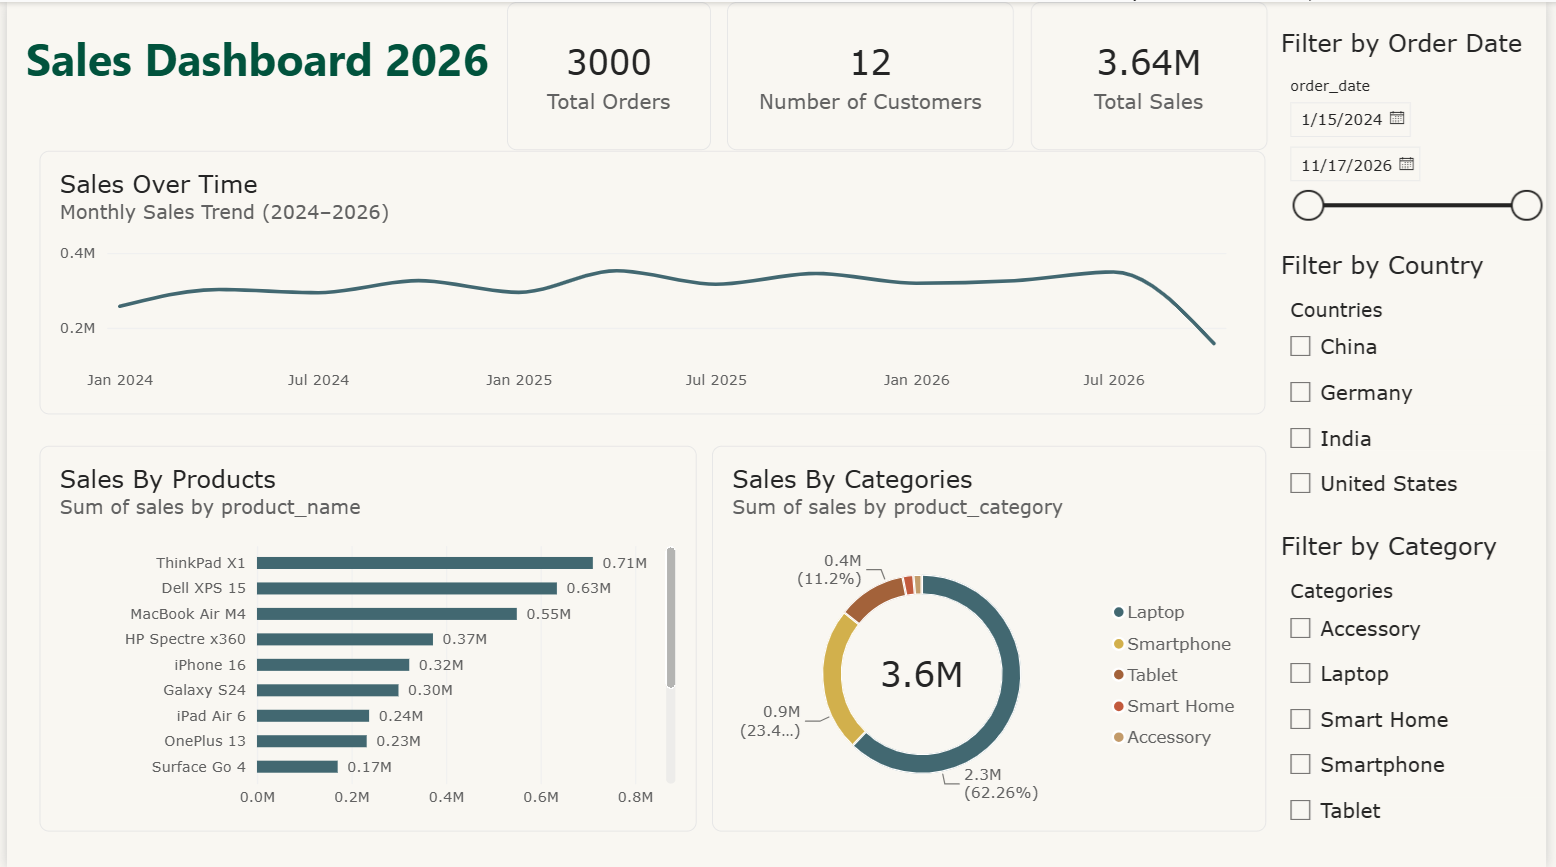

What the dashboard file says about the page in this screenshot:
{"tool":"powerbi","page":{"name":"Page 1","canvas":[1280,720],"ordinal":0},"visuals":[{"type":"barChart","title":"Sales By Products","fields":{"Category":["orders.product_name"],"Y":["Sum(orders.sales)"]},"box":[27.4,369.1,546.1,321.1],"z":0},{"type":"donutChart","title":"Sales By Categories","fields":{"Category":["orders.product_category"],"Y":["Sum(orders.sales)"]},"box":[585.9,369.1,461.1,321.1],"z":1000},{"type":"card","fields":{"Values":["CountNonNull(orders.order_id)"]},"box":[415.8,0,169.7,123.4],"z":2000},{"type":"card","fields":{"Values":["Count(orders.customer_id)"]},"box":[598.3,0,238.8,123.5],"z":3000},{"type":"card","fields":{"Values":["orders.Total Sales"]},"box":[850.8,0,196.5,122.8],"z":4000},{"type":"lineChart","title":"Sales Over Time","fields":{"Category":["orders.order_date.Variation.Date Hierarchy.Year","orders.order_date.Variation.Date Hierarchy.Quarter","orders.order_date.Variation.Date Hierarchy.Month","orders.order_date.Variation.Date Hierarchy.Day"],"Y":["Sum(orders.sales)"]},"box":[27.4,123.5,1019.6,219.6],"z":5000},{"type":"slicer","title":"Filter by Country","fields":{"Values":["customers.country"]},"box":[1059.4,205.8,220.9,216.8],"z":6000},{"type":"slicer","title":"Filter by Category","fields":{"Values":["orders.product_category"]},"box":[1059.4,439.1,220.9,281.3],"z":7000},{"type":"slicer","title":"Filter by Order Date","fields":{"Values":["orders.order_date"]},"box":[1059.4,22,220.9,174.3],"z":8000},{"type":"textbox","box":[15.1,22,400.7,70],"z":9000}]}

Visuals, with their boxes in screenshot pixels (x1, y1, x2, y2), scaled from the page's 1280x720 canvas onto the 1556x867 screenshot:
"Sales By Products" barChart: 33/444/697/831
"Sales By Categories" donutChart: 712/444/1273/831
card - CountNonNull(orders.order_id): 505/0/712/149
card - Count(orders.customer_id): 727/0/1018/149
card - orders.Total Sales: 1034/0/1273/148
"Sales Over Time" lineChart: 33/149/1273/413
"Filter by Country" slicer: 1288/248/1555/509
"Filter by Category" slicer: 1288/529/1555/866
"Filter by Order Date" slicer: 1288/26/1555/236
textbox: 18/26/505/111
